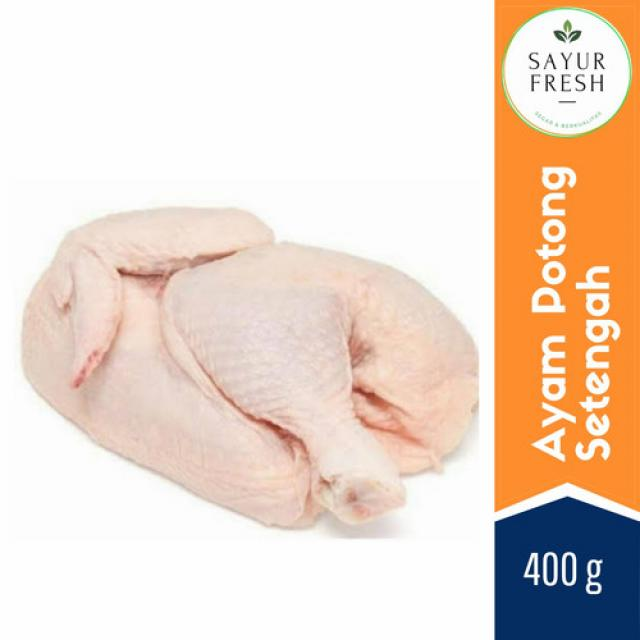chicken: (21, 205, 477, 523)
